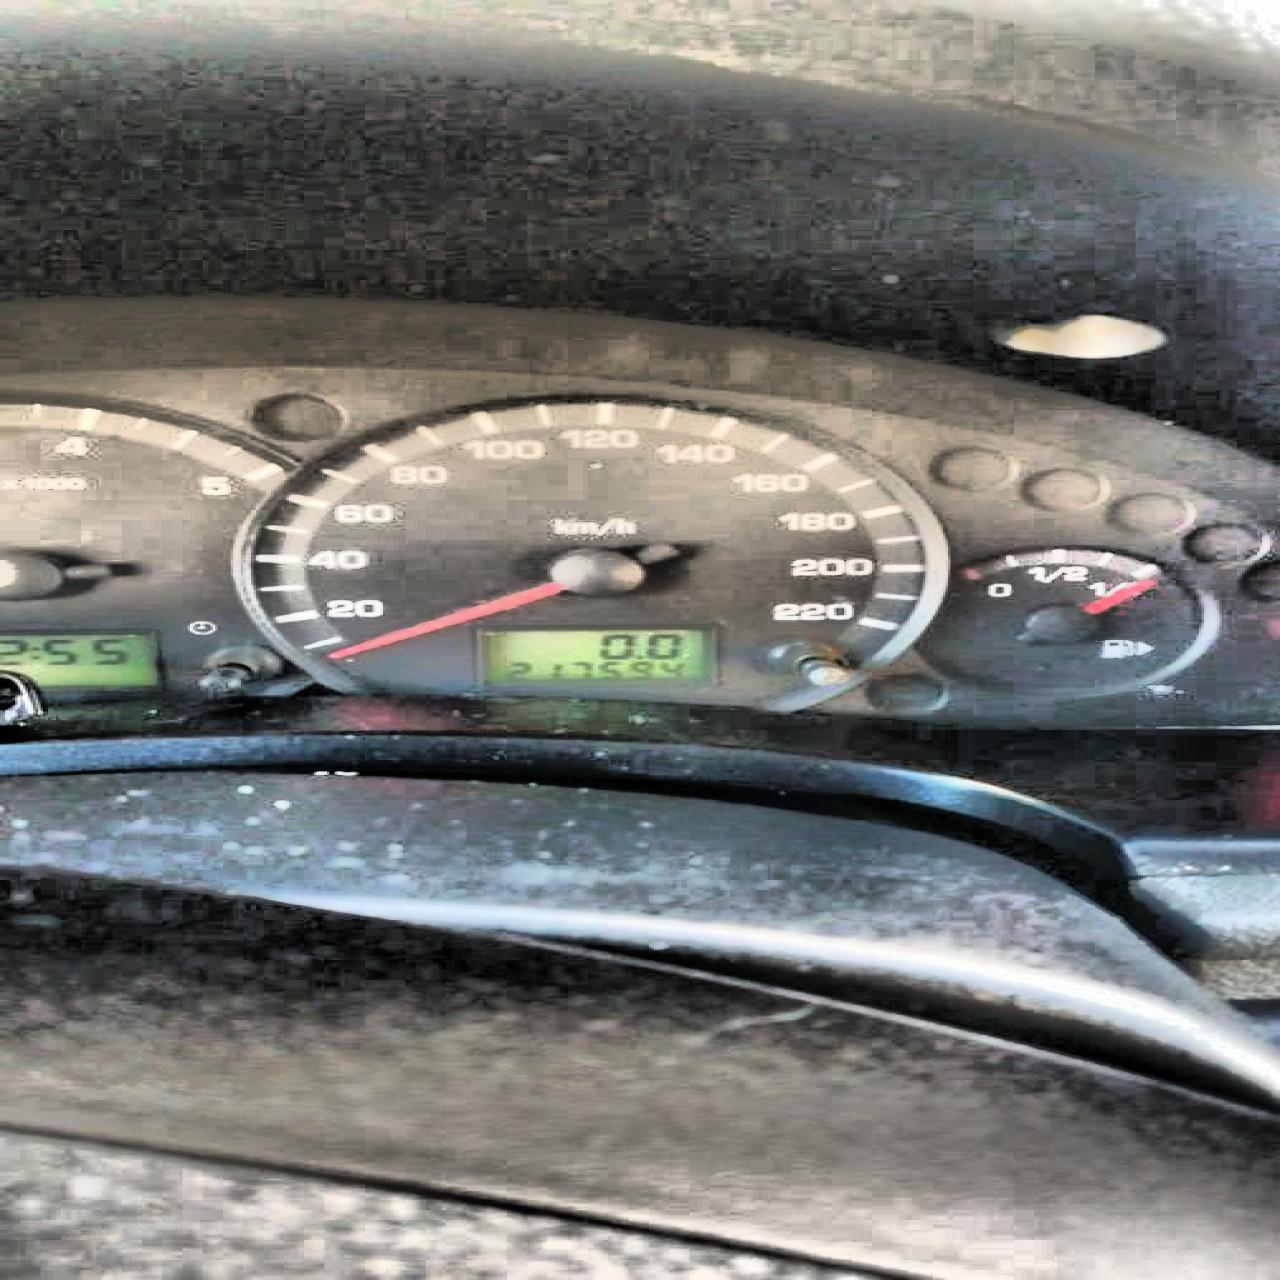-: (633, 654, 644, 659)
0: (644, 633, 678, 658), (598, 633, 631, 658)
1: (547, 661, 560, 679)
2: (504, 661, 530, 680)
4: (656, 661, 685, 676)
5: (595, 660, 621, 679)
7: (567, 660, 591, 680)
9: (626, 660, 649, 679)
odometer: (477, 626, 713, 682)
